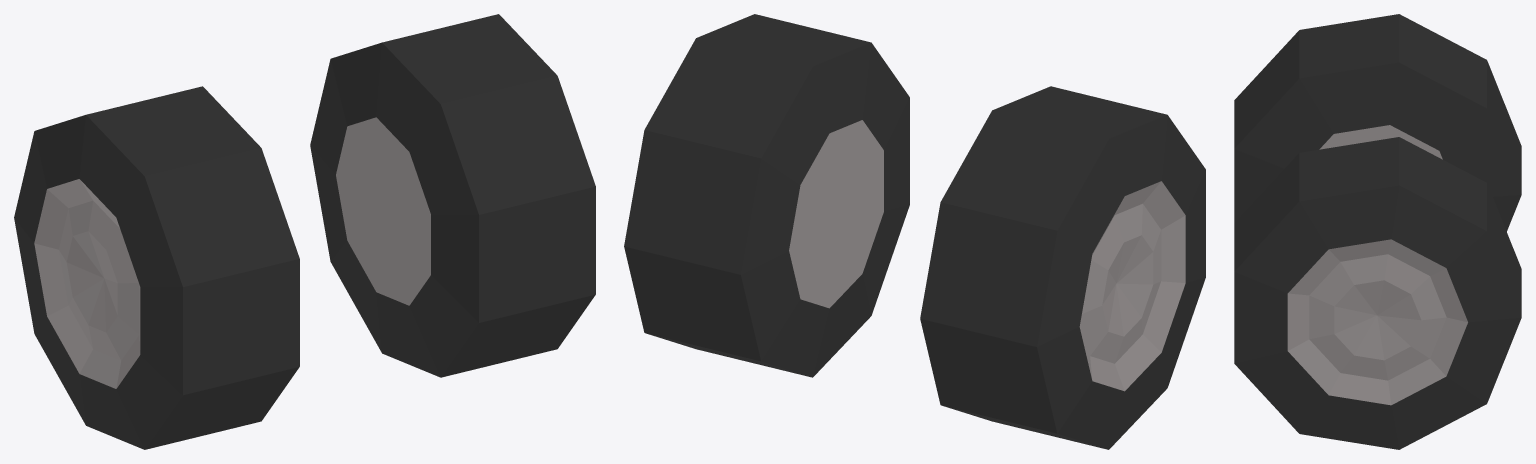
Rendered from plane-passenger-wheels_BL1.glb.
3 renders of one model, left to right at view 1: azimuth 30°, elevation 25°; view 2: azimuth 150°, elevation 25°; view 3: azimuth 270°, elevation 25°, orthographic. The views are drawn at different scales.
Parts seen in each view (by area): view 1: plane-passenger-wheels_BL1; view 2: plane-passenger-wheels_BL1; view 3: plane-passenger-wheels_BL1.
Boxes of the visible parts, bbox=[...] form: plane-passenger-wheels_BL1: bbox=[14, 14, 595, 449]; plane-passenger-wheels_BL1: bbox=[624, 14, 1205, 449]; plane-passenger-wheels_BL1: bbox=[1234, 14, 1521, 449].
Size of the model in its own units: 1.94 by 1.33 by 1.31.
Materials: 1 (1 with a texture image).
